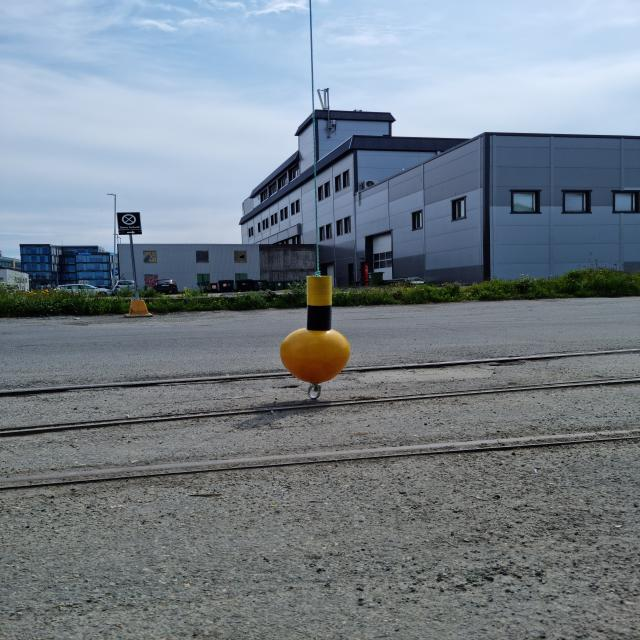west: (278, 278, 353, 383)
